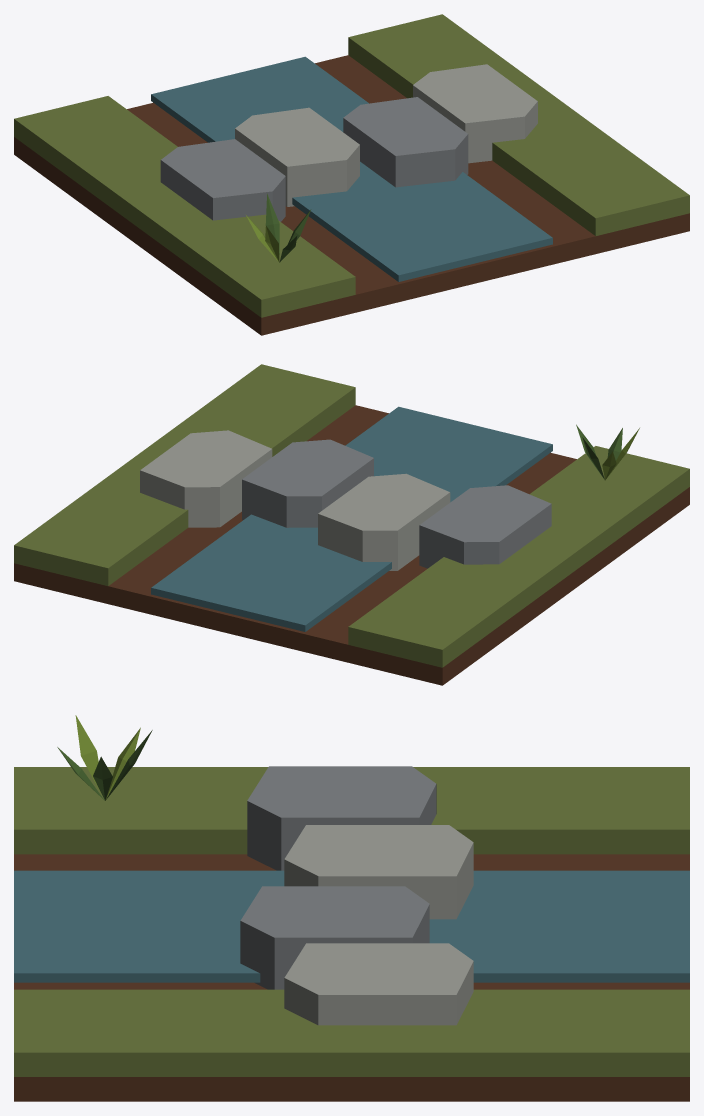
The model's file is 369_stream_stepping_stones.fbx.
3 views of the same model, one above another, from view 1: azimuth 30°, elevation 25°; view 2: azimuth 150°, elevation 25°; view 3: azimuth 270°, elevation 25° (orthographic). The views are drawn at different scales.
Parts seen in each view (by area): view 1: 369_stream_stepping_stones; view 2: 369_stream_stepping_stones; view 3: 369_stream_stepping_stones.
Boxes of the visible parts, x1,y1,x2,y2 form: 369_stream_stepping_stones: (14, 14, 689, 335); 369_stream_stepping_stones: (14, 364, 689, 685); 369_stream_stepping_stones: (14, 715, 689, 1101).
Size of the model in its own units: 2 by 0.4072 by 2.
1 material, 1 textured.
